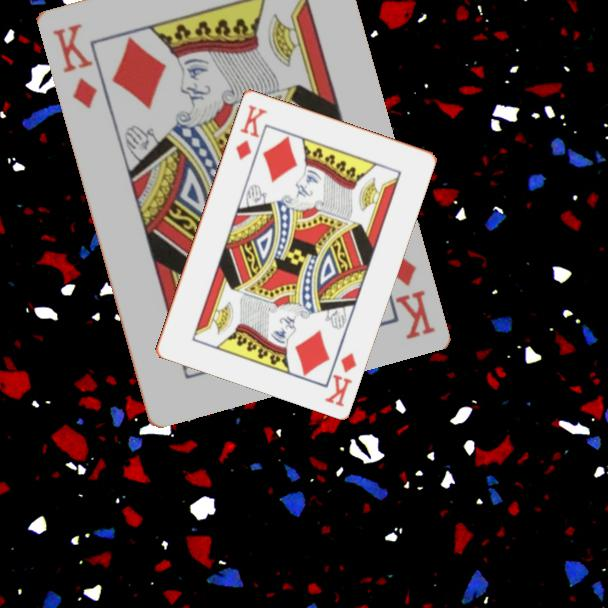d13: (48, 19, 100, 111), (387, 251, 438, 342), (232, 101, 270, 162), (321, 348, 359, 409)
